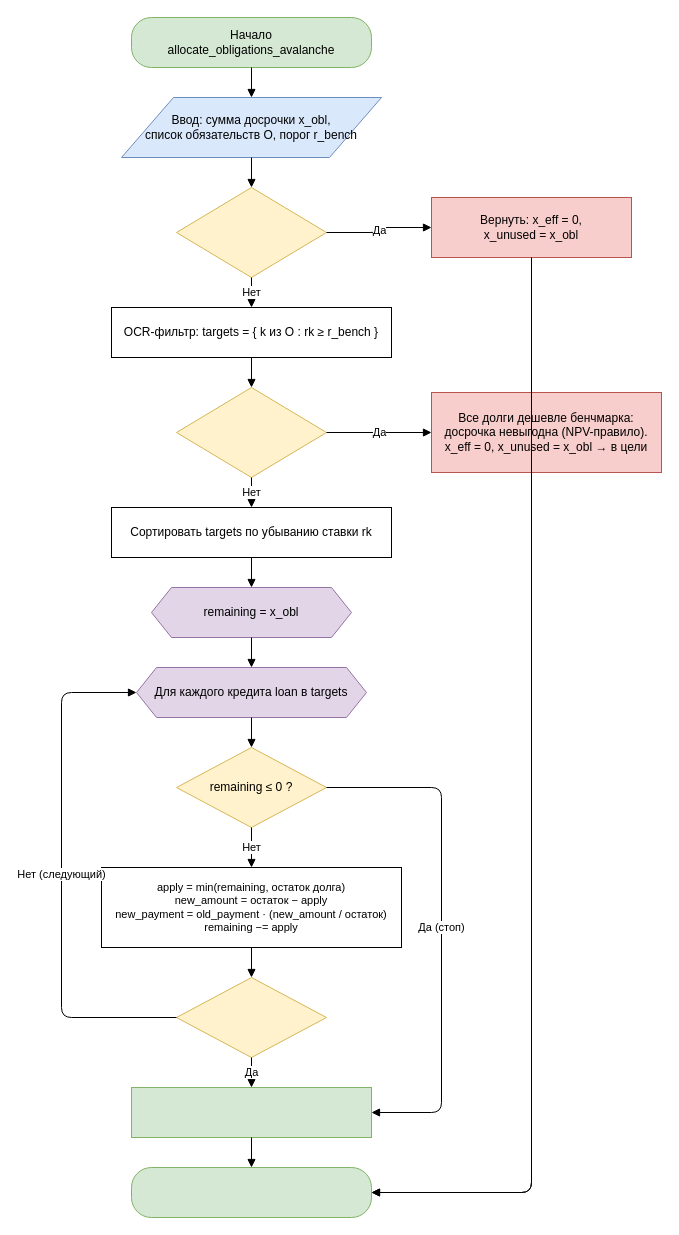
Some shapes in this 679 by 1235 pixel diagram are drawn without their labels. The centre of each missing label's shape, as x and y in pixels:
targets пуст ?: [251,432]
x_eff = x_obl − remaining x_unused = remaining: [251,1112]
x_obl ≤ 0 или O пуст ?: [251,232]
Конец → (x_eff, new_obls, x_unused): [251,1192]
Кредиты кончились?: [251,1017]
